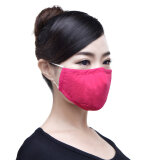face_mask: (55, 34, 113, 109)
